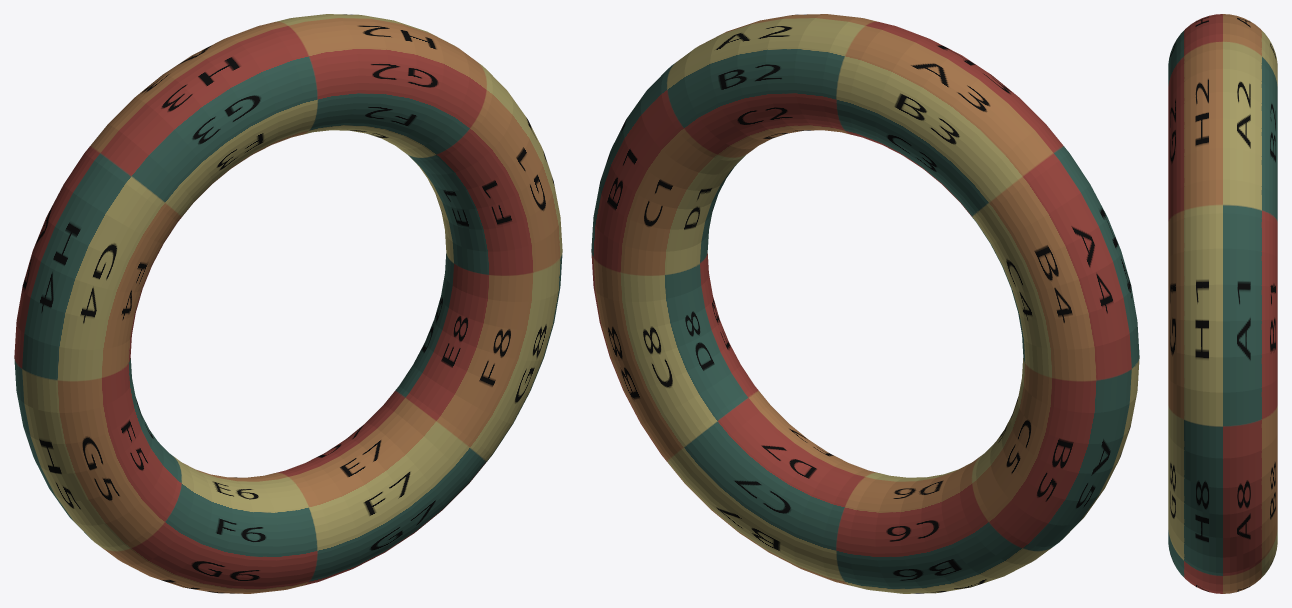
Rendered from texture_torus_R15_r10.glb.
3 views of the same model, side by side, from view 1: azimuth 30°, elevation 25°; view 2: azimuth 150°, elevation 25°; view 3: azimuth 270°, elevation 25° (orthographic). The views are drawn at different scales.
Parts seen in each view (by area): view 1: world; view 2: world; view 3: world.
Part boxes in pixels (x1=…): world: x1=14, y1=14, x2=562, y2=593; world: x1=591, y1=14, x2=1139, y2=593; world: x1=1168, y1=14, x2=1277, y2=593.
Size of the model in its own units: 24.67 by 24.62 by 4.66.
Materials: 1 (1 with a texture image).
